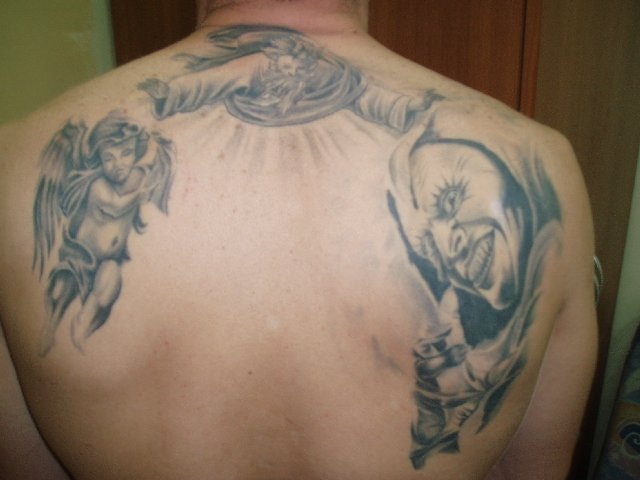tatu1_angel: (32, 111, 176, 362)
